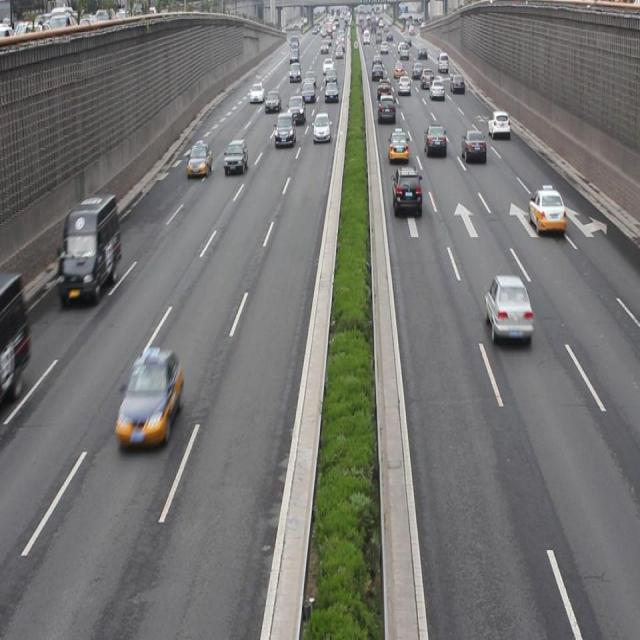car: (115, 349, 183, 446), (484, 275, 532, 341), (526, 186, 564, 236), (392, 166, 422, 216), (187, 141, 212, 177), (460, 128, 484, 164), (424, 122, 446, 160), (224, 139, 248, 173), (274, 111, 296, 147), (387, 129, 409, 164), (487, 108, 511, 140), (312, 110, 329, 142), (288, 95, 306, 125)
truck: (56, 192, 120, 299), (377, 94, 395, 125)
